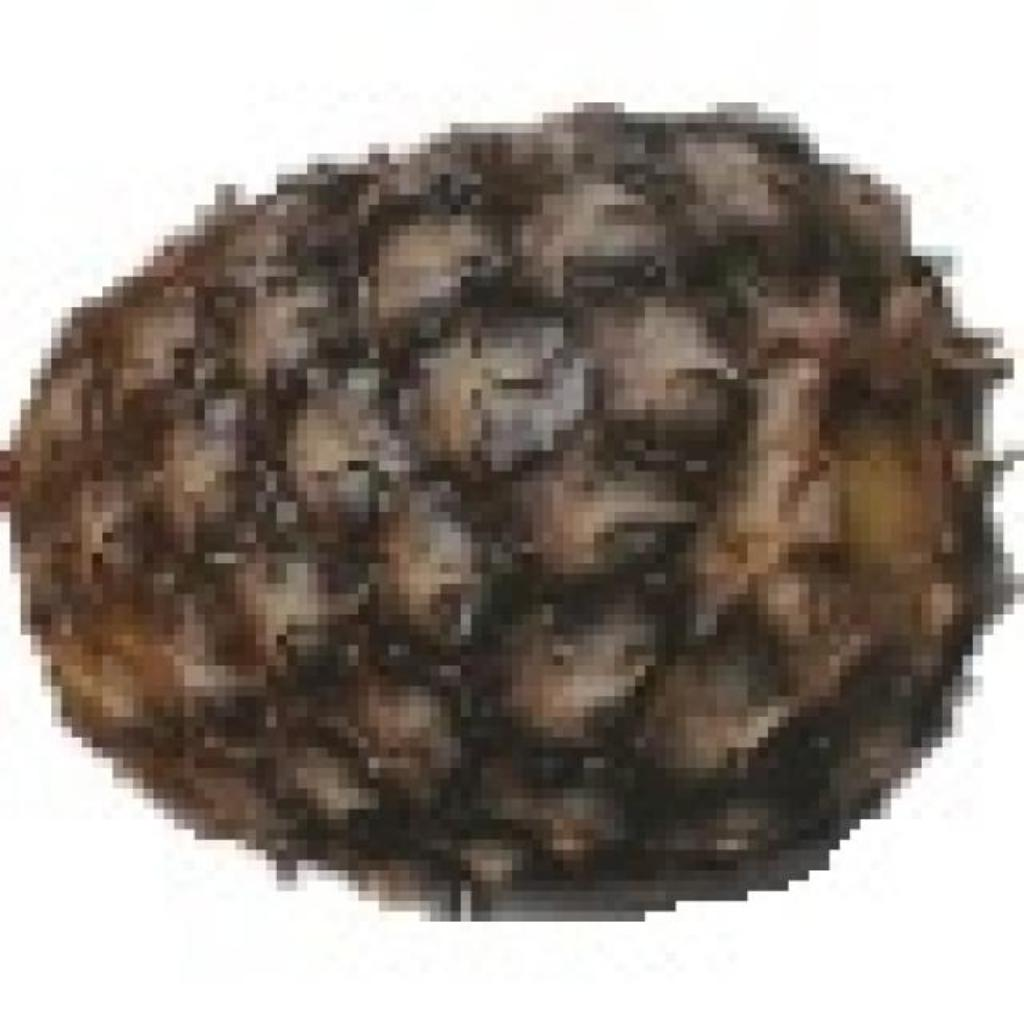pineapple: (0, 92, 983, 891)
